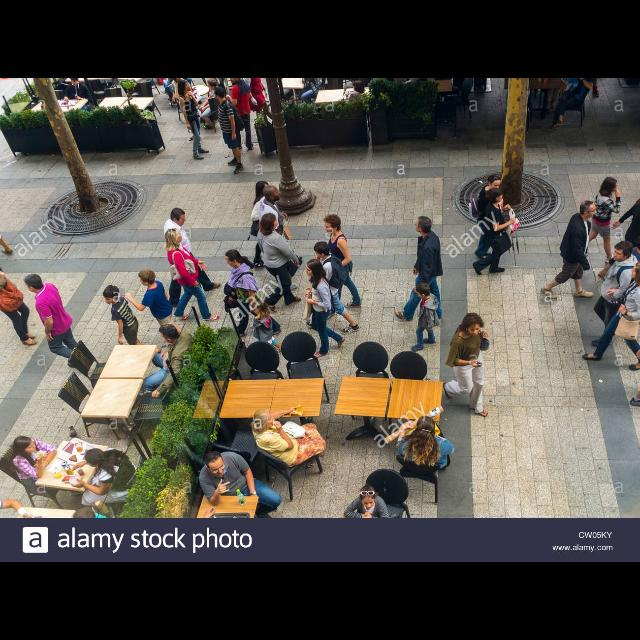head: (204, 452, 226, 478), (158, 324, 180, 344), (253, 409, 275, 428), (24, 274, 44, 294), (614, 242, 634, 262), (14, 436, 36, 454), (360, 486, 376, 510), (465, 314, 481, 338), (86, 450, 104, 470), (104, 284, 120, 306), (139, 270, 157, 288), (224, 250, 242, 268), (254, 180, 272, 198), (305, 259, 323, 277), (580, 201, 598, 219), (171, 208, 187, 228), (262, 186, 282, 202), (314, 241, 331, 259), (164, 228, 183, 244), (325, 216, 341, 234), (418, 417, 434, 435), (416, 215, 432, 232), (263, 214, 279, 230), (488, 174, 502, 192), (416, 283, 430, 299), (490, 188, 504, 204), (604, 177, 618, 193), (0, 254, 10, 273), (256, 302, 268, 316), (178, 79, 190, 91), (178, 80, 190, 92), (214, 88, 226, 100), (208, 78, 218, 90), (354, 81, 364, 92), (70, 77, 80, 86), (230, 78, 242, 84), (584, 78, 594, 84), (252, 78, 260, 82), (308, 78, 316, 82)
person: (198, 449, 284, 539), (22, 273, 90, 375), (163, 207, 223, 309), (538, 200, 598, 302), (220, 248, 284, 339), (392, 215, 446, 322), (162, 227, 222, 323), (442, 312, 492, 420), (306, 240, 362, 336), (248, 404, 328, 470), (123, 268, 187, 350), (255, 211, 305, 315), (70, 446, 140, 516), (384, 406, 456, 474), (12, 434, 86, 500), (140, 322, 198, 406), (318, 212, 362, 320), (302, 258, 348, 360), (472, 187, 522, 277), (258, 185, 300, 292), (0, 240, 40, 348), (576, 176, 624, 266), (102, 284, 152, 370), (248, 179, 294, 269), (342, 485, 392, 563), (470, 173, 506, 261), (214, 86, 246, 176), (177, 79, 210, 161), (546, 78, 596, 132), (241, 78, 285, 136), (224, 78, 256, 152), (410, 281, 442, 353), (170, 78, 203, 142), (248, 298, 284, 356), (342, 80, 372, 132), (63, 78, 95, 126), (200, 79, 228, 131), (298, 78, 326, 116)
